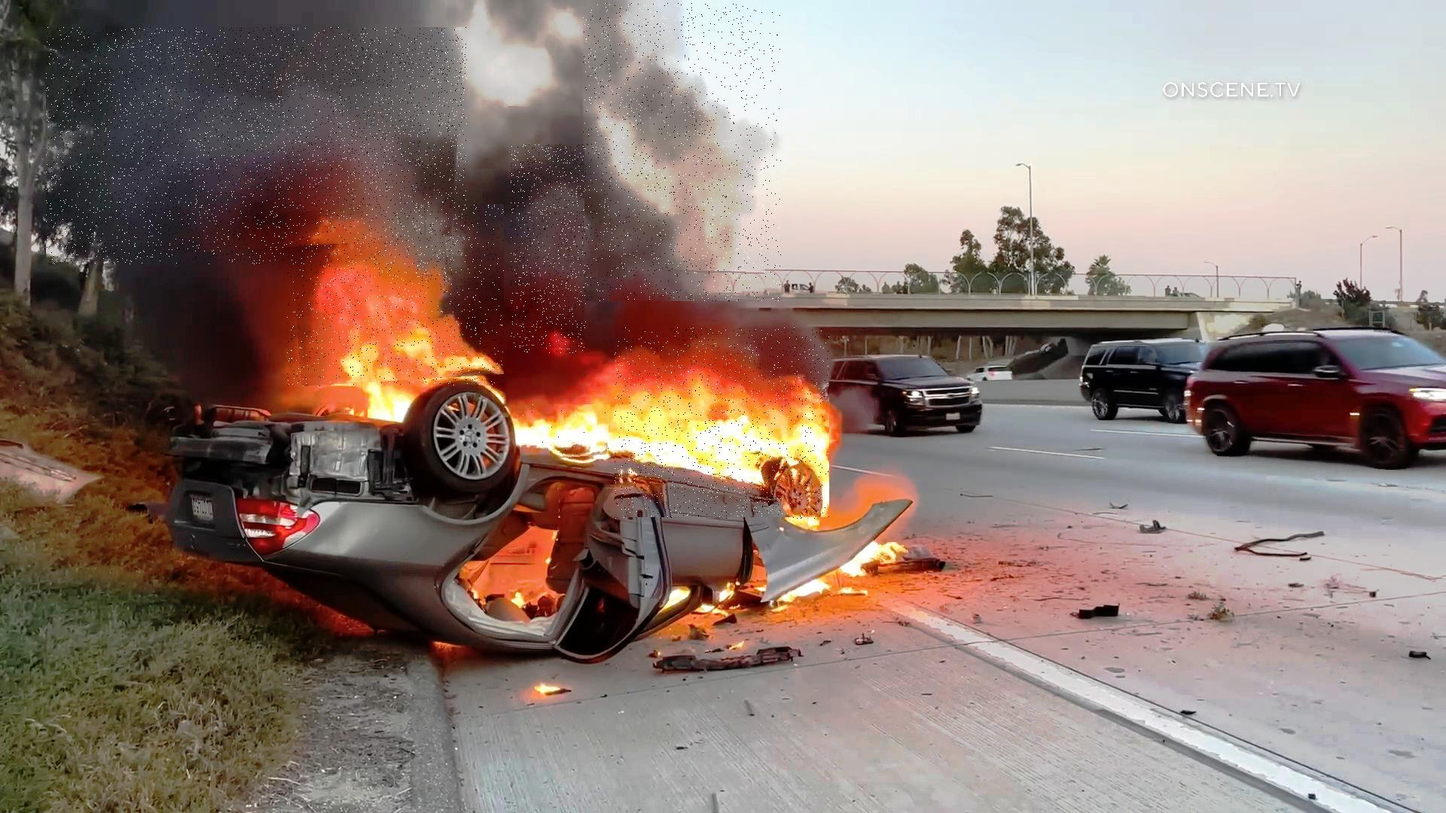fire: (615, 328, 829, 519), (287, 204, 504, 386), (520, 404, 611, 462)
smoke: (46, 27, 467, 264), (583, 3, 781, 301), (511, 145, 586, 354)
